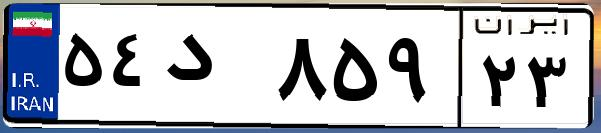2: (475, 38, 525, 113)
3: (525, 38, 570, 115)
4: (110, 28, 158, 98)
5: (330, 28, 385, 110), (57, 26, 110, 100)
8: (270, 28, 330, 110)
9: (385, 28, 445, 110)
د: (158, 20, 270, 120)
